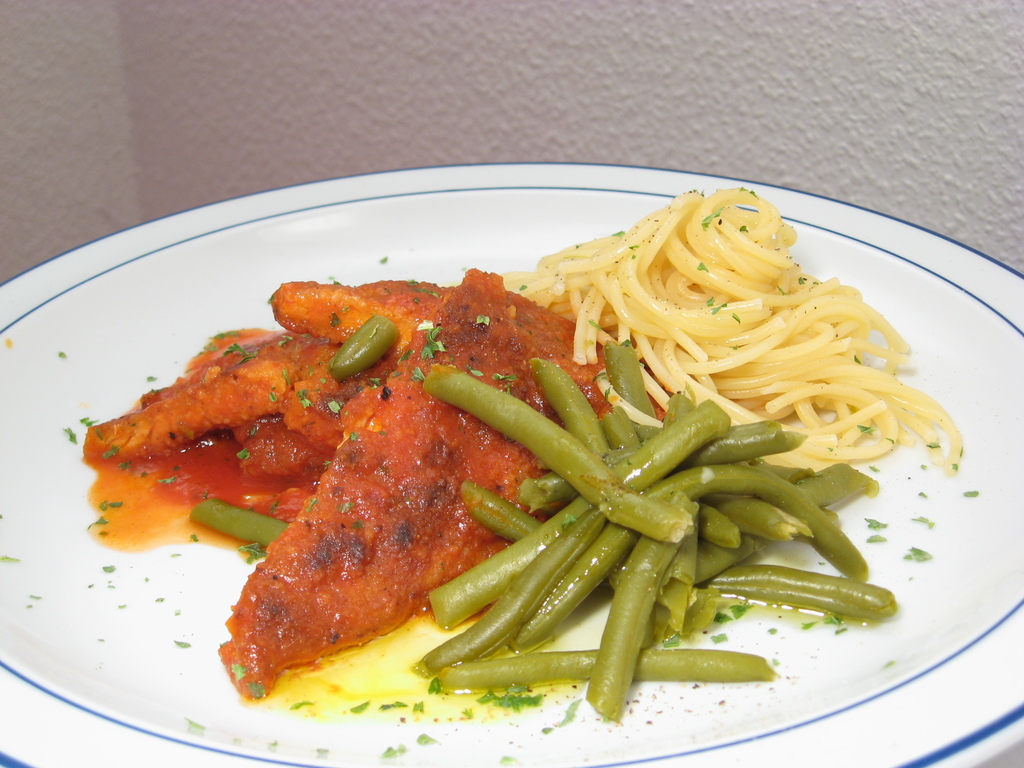pasta: (501, 192, 960, 502)
